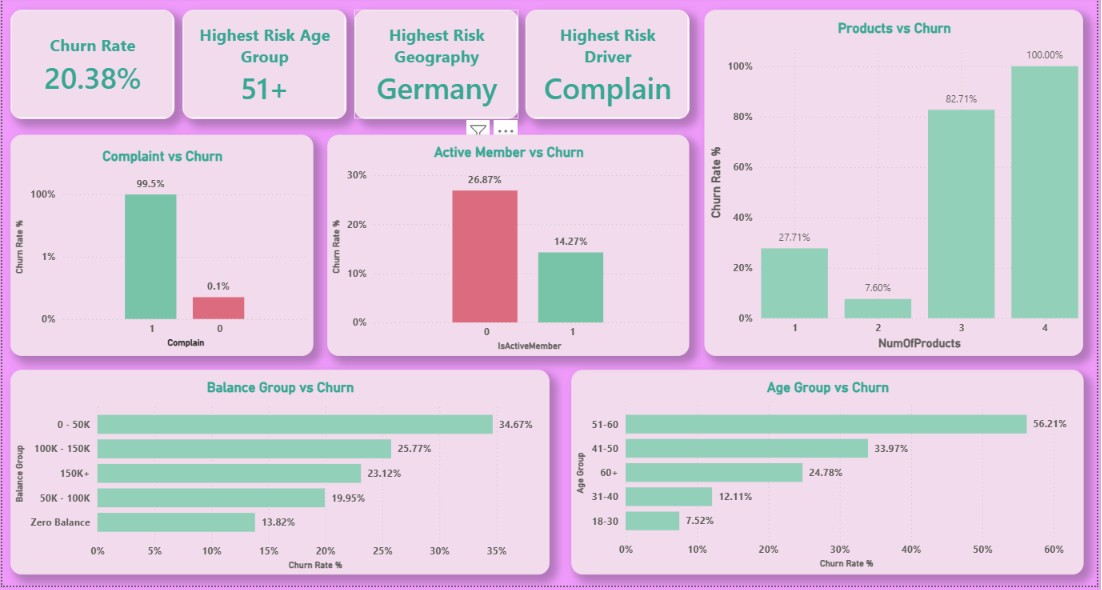

The dashboard page shown, as its layout file describes it:
{"tool":"powerbi","page":{"name":"Churn Drivers Dashboard","canvas":[1338,720],"ordinal":1},"visuals":[{"type":"cardVisual","fields":{"Data":["Customer-Churn-Records.Churn Rate"]},"box":[9.8,15.9,200.5,133.3],"z":0},{"type":"cardVisual","fields":{"Data":["Customer-Churn-Records.Highest Risk Age Group"]},"box":[220.1,15.9,200.5,133.3],"z":1000},{"type":"cardVisual","fields":{"Data":["Customer-Churn-Records.Highest Risk Geography"]},"box":[430.4,15.9,200.5,133.3],"z":2000},{"type":"cardVisual","fields":{"Data":["Customer-Churn-Records.Highest Risk Driver"]},"box":[639.5,15.9,200.5,133.3],"z":3000},{"type":"clusteredColumnChart","title":"Complaint vs Churn","fields":{"Y":["Customer-Churn-Records.Churn Rate"],"Category":["Customer-Churn-Records.Complain"]},"box":[9.8,168.8,370.5,270.2],"z":4000},{"type":"barChart","title":"Age Group vs Churn","fields":{"Y":["Customer-Churn-Records.Churn Rate"],"Category":["Customer-Churn-Records.Age Group"]},"box":[695.8,456.1,626.1,250.7],"z":5000},{"type":"columnChart","title":"Active Member vs Churn","fields":{"Category":["Customer-Churn-Records.IsActiveMember"],"Y":["Customer-Churn-Records.Churn Rate"]},"box":[397.4,168.8,442.7,270.2],"z":6000},{"type":"columnChart","title":"Products vs Churn","fields":{"Category":["Customer-Churn-Records.NumOfProducts"],"Y":["Customer-Churn-Records.Churn Rate"]},"box":[858.4,15.9,463.5,423.1],"z":7000},{"type":"clusteredBarChart","title":"Balance Group vs Churn","fields":{"Category":["Customer-Churn-Records.Balance Group"],"Y":["Customer-Churn-Records.Churn Rate"]},"box":[9.8,456.1,659.1,250.7],"z":8000}]}

Visuals, with their boxes in screenshot pixels (x1, y1, x2, y2), scaled from the page's 1338x720 canvas onto the 1102x590 screenshot:
cardVisual - Customer-Churn-Records.Churn Rate: [x1=8, y1=13, x2=173, y2=122]
cardVisual - Customer-Churn-Records.Highest Risk Age Group: [x1=181, y1=13, x2=346, y2=122]
cardVisual - Customer-Churn-Records.Highest Risk Geography: [x1=354, y1=13, x2=520, y2=122]
cardVisual - Customer-Churn-Records.Highest Risk Driver: [x1=527, y1=13, x2=692, y2=122]
"Complaint vs Churn" clusteredColumnChart: [x1=8, y1=138, x2=313, y2=360]
"Age Group vs Churn" barChart: [x1=573, y1=374, x2=1089, y2=579]
"Active Member vs Churn" columnChart: [x1=327, y1=138, x2=692, y2=360]
"Products vs Churn" columnChart: [x1=707, y1=13, x2=1089, y2=360]
"Balance Group vs Churn" clusteredBarChart: [x1=8, y1=374, x2=551, y2=579]
